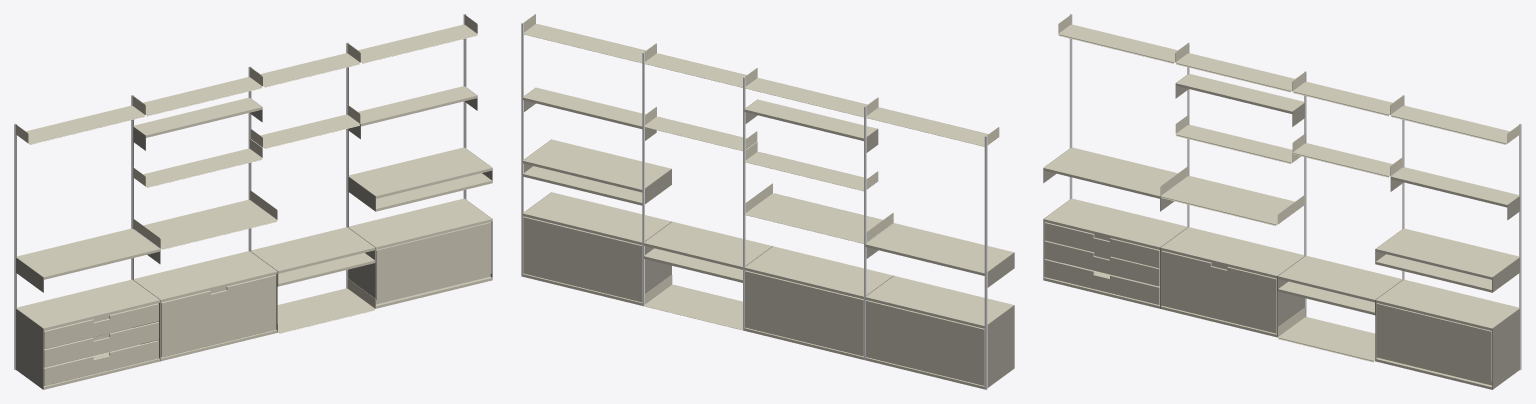
The model's file is shelf.glb.
3 renders of one model, left to right at view 1: azimuth 30°, elevation 25°; view 2: azimuth 150°, elevation 25°; view 3: azimuth 330°, elevation 25°, orthographic. The views are drawn at different scales.
Size of the model in its own units: 3.52 by 1.84 by 0.3904.
